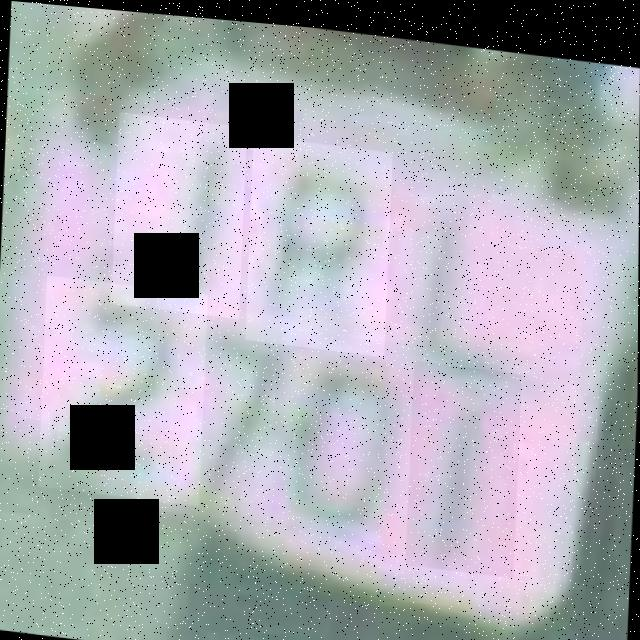0: (270, 322, 424, 549)
1: (406, 352, 522, 569)
2: (39, 273, 207, 503)
7: (167, 299, 303, 520)
J: (390, 170, 533, 373), (111, 109, 247, 314)
R: (246, 130, 394, 350)
